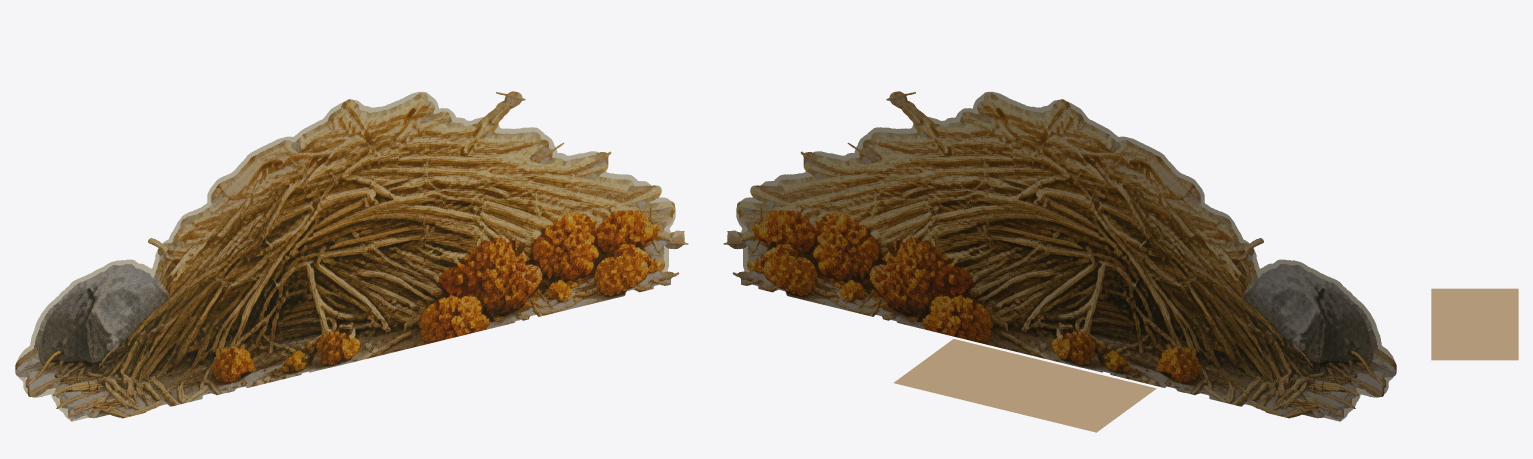
The model's file is toad-prop-straw-pile.glb.
3 views of the same model, side by side, from view 1: azimuth 30°, elevation 25°; view 2: azimuth 150°, elevation 25°; view 3: azimuth 270°, elevation 25° (orthographic). The views are drawn at different scales.
Parts seen in each view (by area): view 1: straw-pile; view 2: straw-pile; view 3: straw-pile.
Part boxes in pixels (x1,y1,x2,y2): straw-pile: [15, 91, 688, 421]; straw-pile: [723, 91, 1396, 432]; straw-pile: [1431, 288, 1518, 360].
Size of the model in its own units: 0.2137 by 0.08 by 0.035.
Materials: 1 (1 with a texture image).
